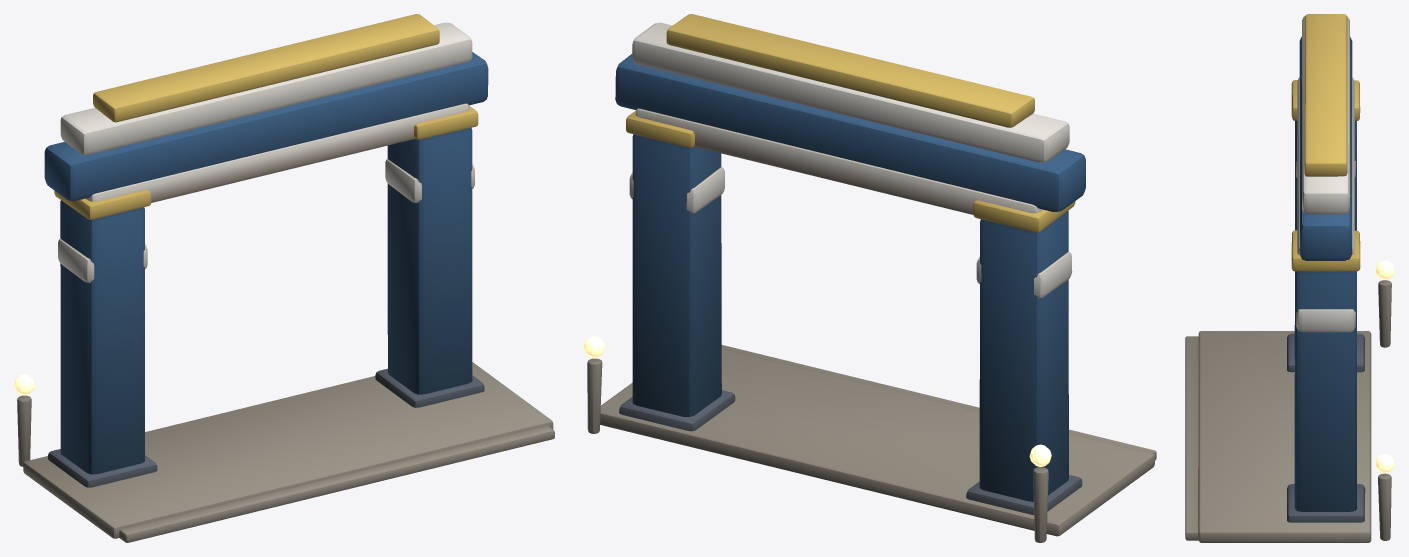
3 renders of one model, left to right at view 1: azimuth 30°, elevation 25°; view 2: azimuth 150°, elevation 25°; view 3: azimuth 270°, elevation 25°, orthographic. The views are drawn at different scales.
Visible parts, largest first — view 1: gate_b9d9fff6; view 2: gate_b9d9fff6; view 3: gate_b9d9fff6.
Boxes of the visible parts, x1=… form: gate_b9d9fff6: x1=14, y1=14, x2=554, y2=542; gate_b9d9fff6: x1=583, y1=14, x2=1156, y2=542; gate_b9d9fff6: x1=1185, y1=14, x2=1394, y2=542.
Size of the model in its own units: 5.83 by 4.77 by 2.54.
